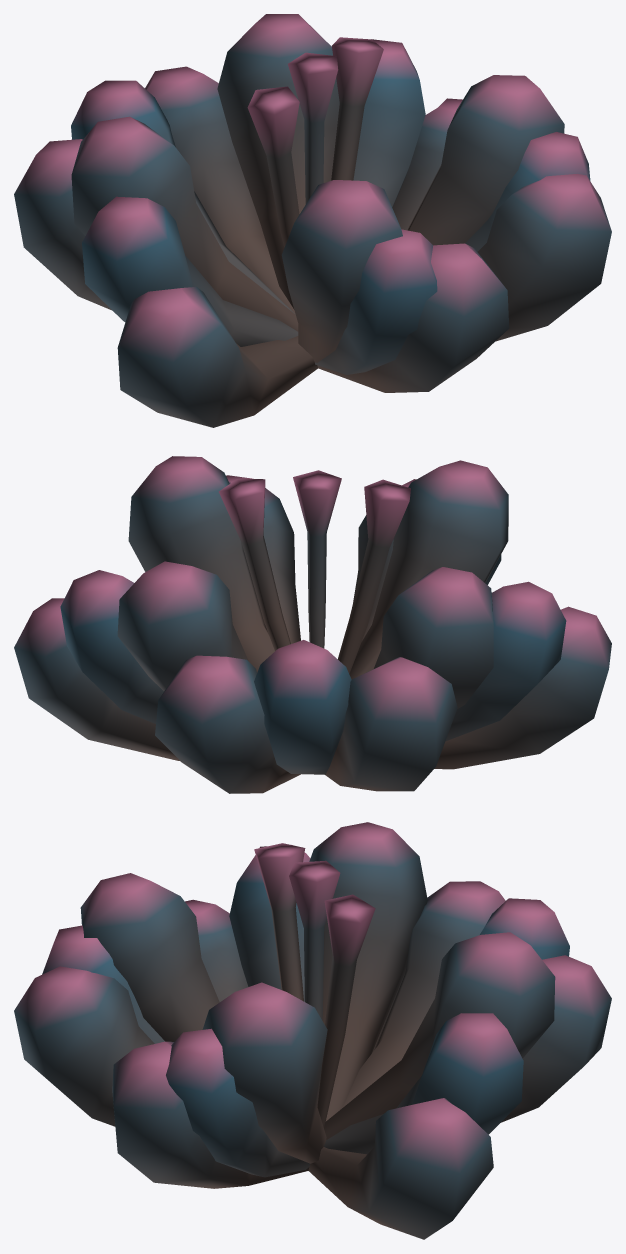
The model's file is plants-cacti-succulents-baby-toes_v1.fbx.
The picture shows the model from 3 angles, top to bottom: view 1: azimuth 30°, elevation 25°; view 2: azimuth 150°, elevation 25°; view 3: azimuth 270°, elevation 25°; orthographic projection. The views are drawn at different scales.
Visible parts, largest first — view 1: Baby Toes_v1; view 2: Baby Toes_v1; view 3: Baby Toes_v1.
Boxes of the visible parts, x1,y1,x2,y2 form: Baby Toes_v1: (14,14,611,427); Baby Toes_v1: (14,456,611,793); Baby Toes_v1: (14,822,611,1239).
Size of the model in its own units: 0.1444 by 0.0826 by 0.15.
